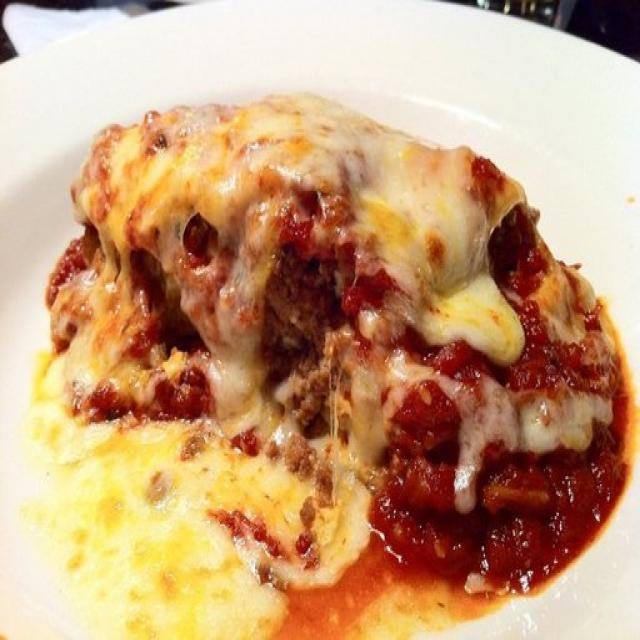Lasagna: (54, 93, 608, 587)
